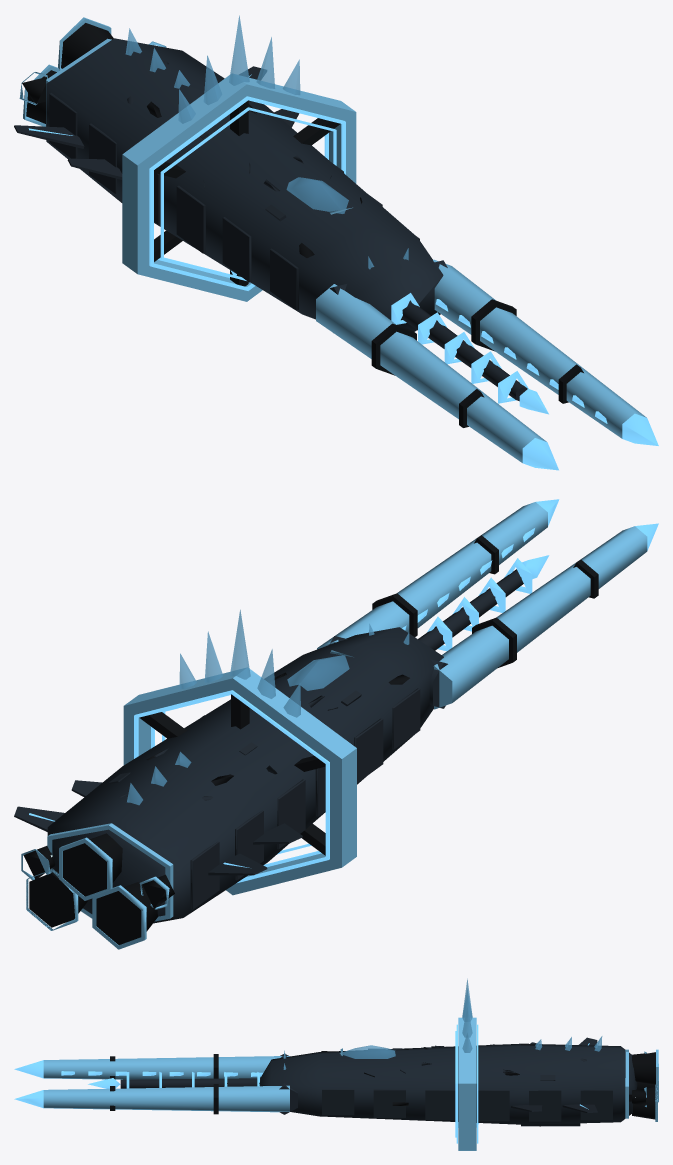
Rendered from kamerton-rezonanci-hawk-5-lod1.glb.
The picture shows the model from 3 angles, top to bottom: view 1: azimuth 30°, elevation 25°; view 2: azimuth 150°, elevation 25°; view 3: azimuth 270°, elevation 25°; orthographic projection. The views are drawn at different scales.
Bounding box in the file's own units: 8.59 × 9.24 × 31.24.
